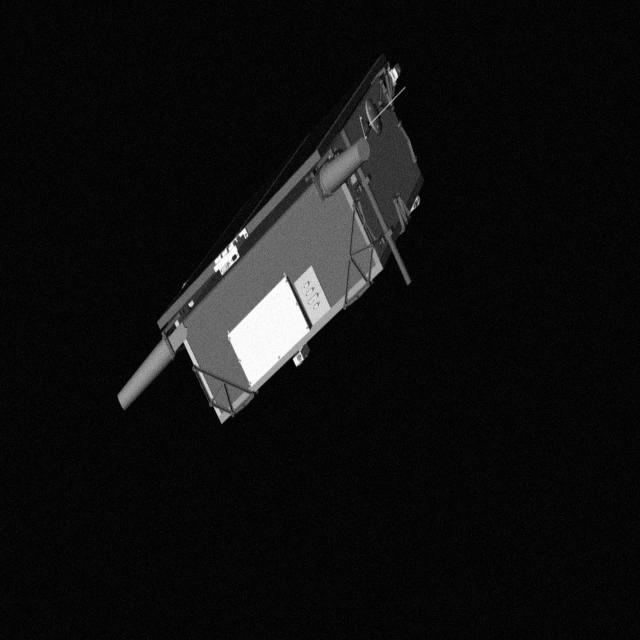satellite: (114, 52, 434, 454)
